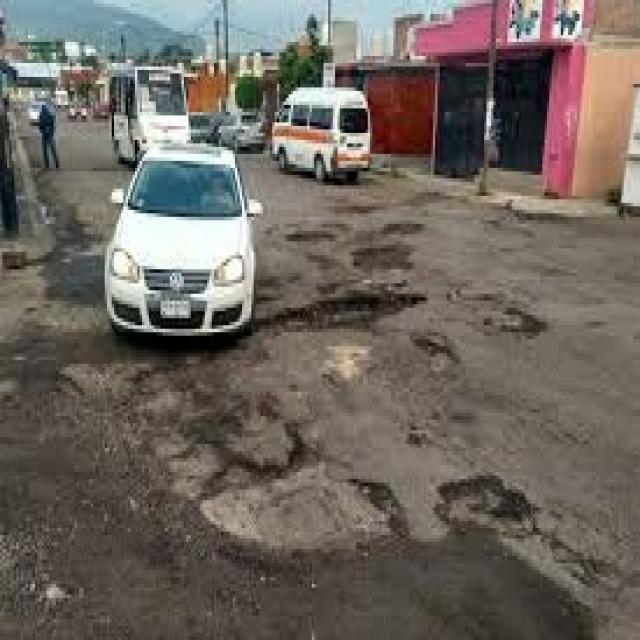Pothole: (135, 409, 559, 588), (270, 189, 586, 399)
